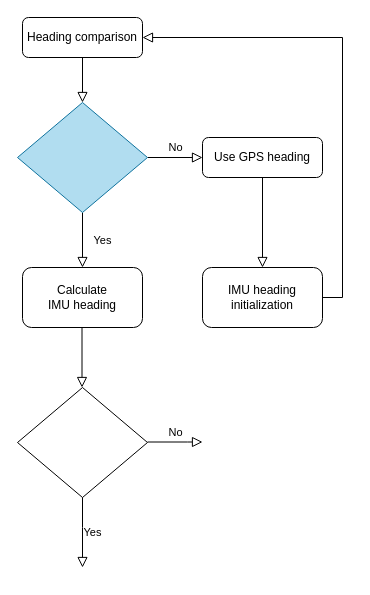
Image size: 370x595. Some labels were removed from this diagram. The centre of each missing label's shape, as x and y in pixels:
"Is GPS heading wrong?" belongs at point (82, 157).
"Road type is curve?" belongs at point (82, 442).
